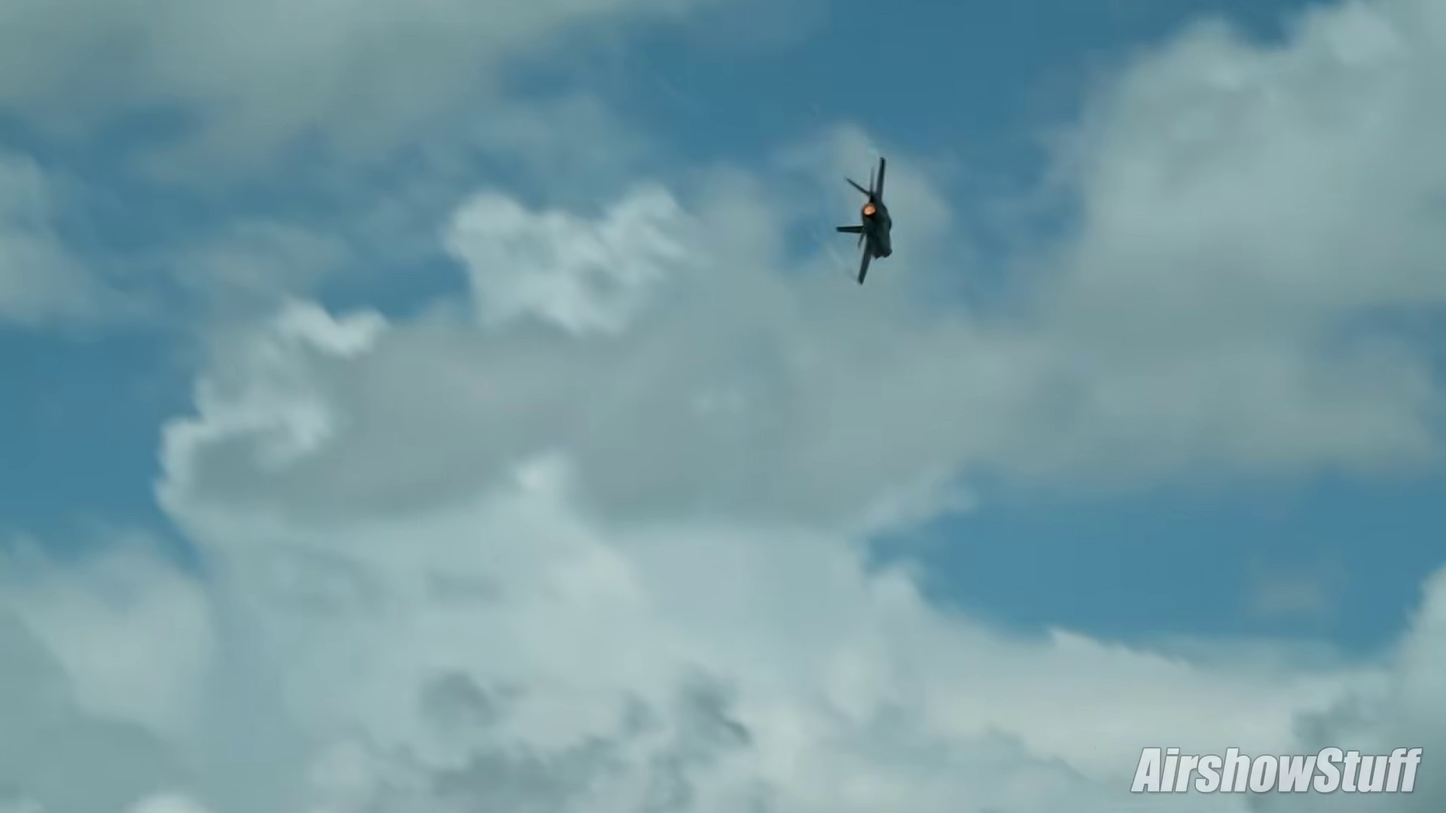F35: (832, 152, 897, 288)
